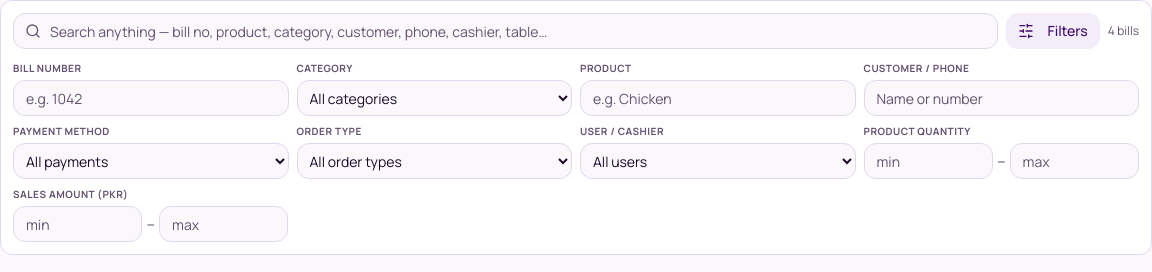
Scenario: the search panel › narrows by category and payment together
Select "Chicken" in the dropdown labelled "Category" at [434, 98], box x1=296 y1=80 x2=572 y2=116
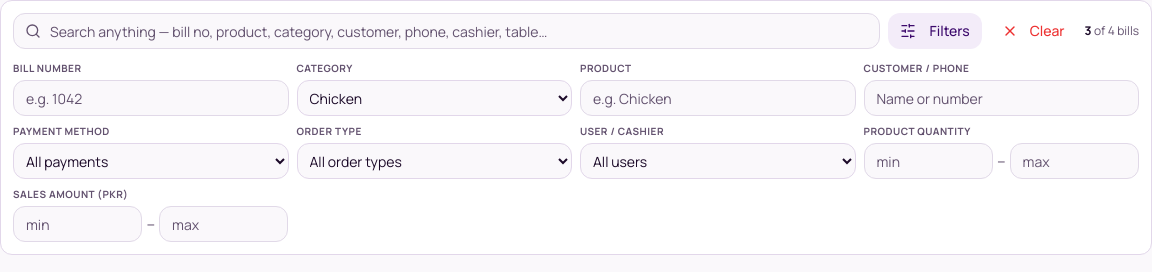
Expected: the element with test id "report-search-count" reads "3 of 4 bills", x1=1085 y1=23 x2=1139 y2=39
Select "Card" in the dropdown labelled "Payment method" at [151, 161], box x1=13 y1=143 x2=288 y2=179
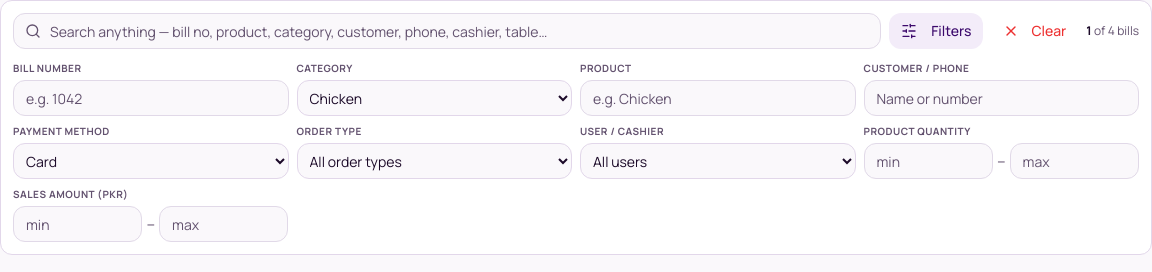
Expected: the element with test id "report-search-count" reads "1 of 4 bills", x1=1086 y1=23 x2=1139 y2=39
